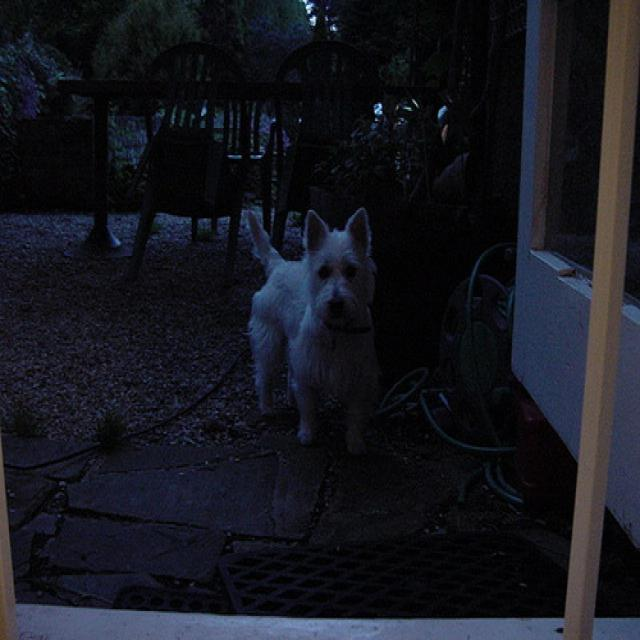Dog: (235, 153, 388, 510)
